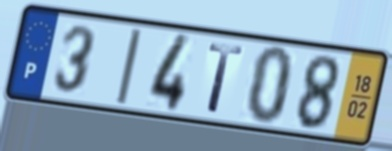0: (243, 43, 297, 128)
3: (52, 23, 98, 96)
4: (146, 30, 192, 115)
8: (296, 53, 342, 132)
I: (113, 27, 145, 108)
T: (205, 41, 246, 116)
